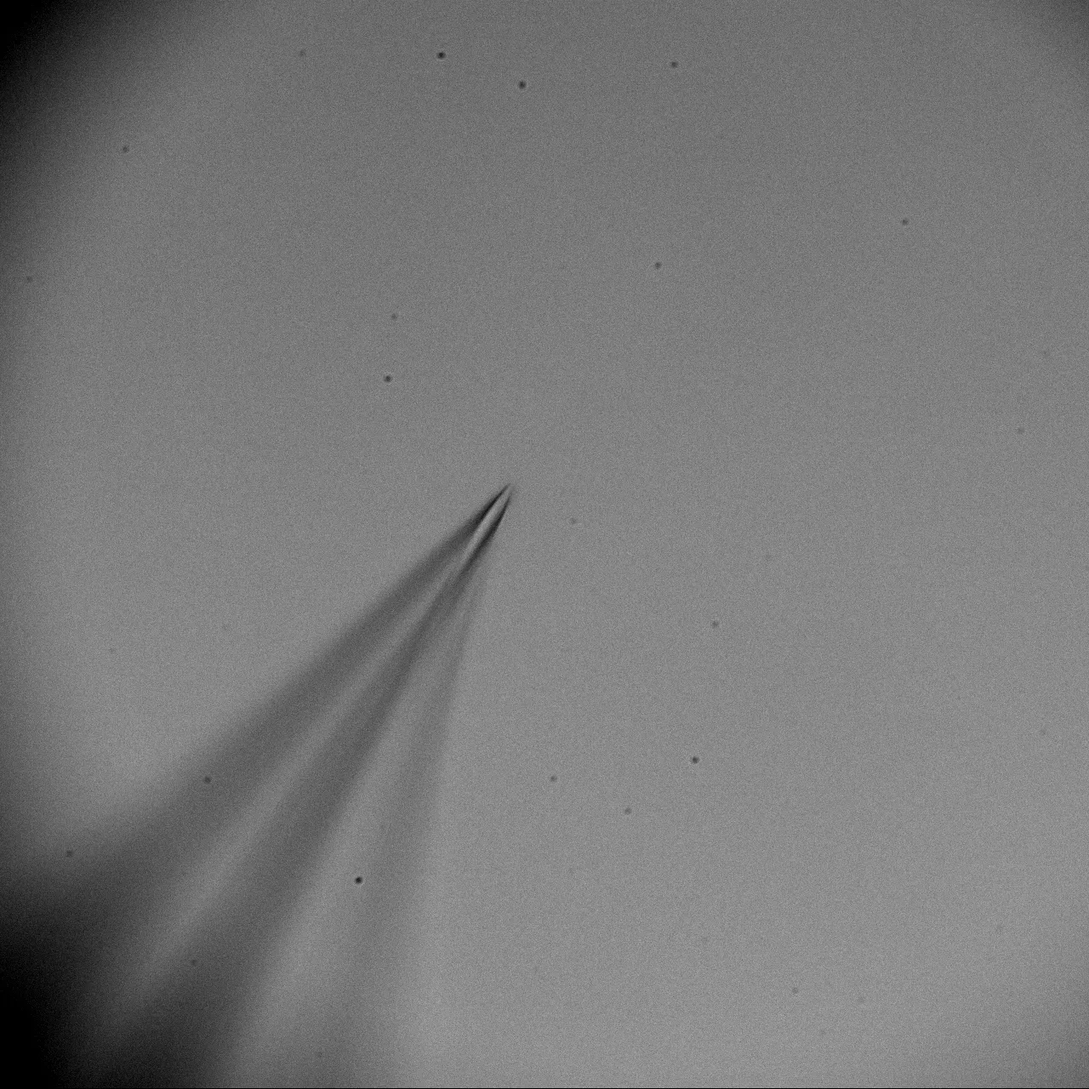tip: (420, 471, 535, 591)
